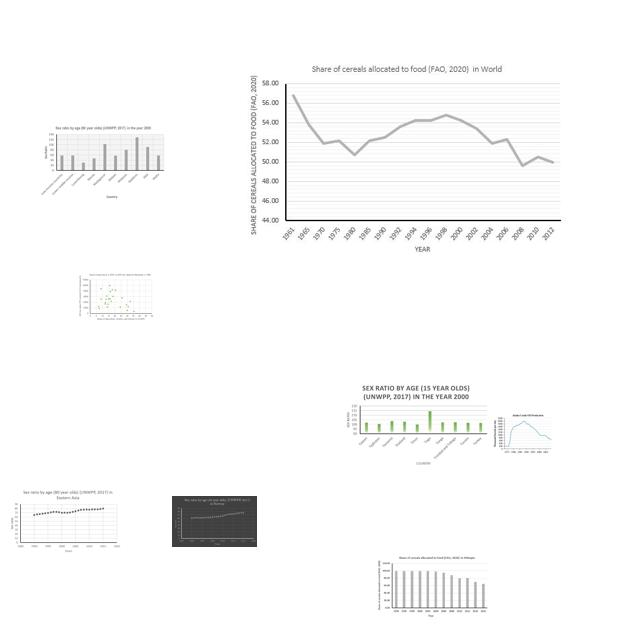Graph: (242, 59, 569, 257), (342, 382, 488, 468), (40, 125, 166, 199), (7, 487, 122, 555), (376, 554, 490, 618), (172, 496, 257, 547), (77, 271, 154, 322), (493, 413, 553, 454)
